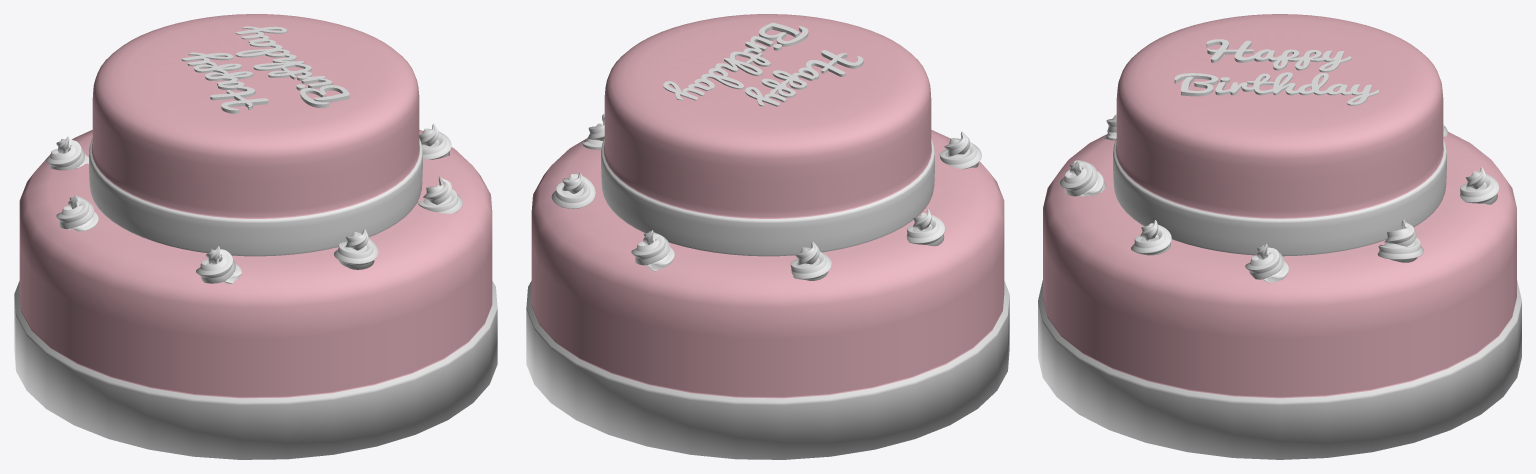
The model's file is cake.fbx.
The picture shows the model from 3 angles, left to right: view 1: azimuth 30°, elevation 25°; view 2: azimuth 150°, elevation 25°; view 3: azimuth 270°, elevation 25°; orthographic projection.
Parts seen in each view (by area): view 1: Spiral.006; view 2: Spiral.006; view 3: Spiral.006.
Boxes of the visible parts, x1=… form: Spiral.006: x1=14, y1=14, x2=497, y2=459; Spiral.006: x1=526, y1=14, x2=1009, y2=459; Spiral.006: x1=1038, y1=14, x2=1521, y2=459.
Bounding box in the file's own units: 169 × 111 × 169.
